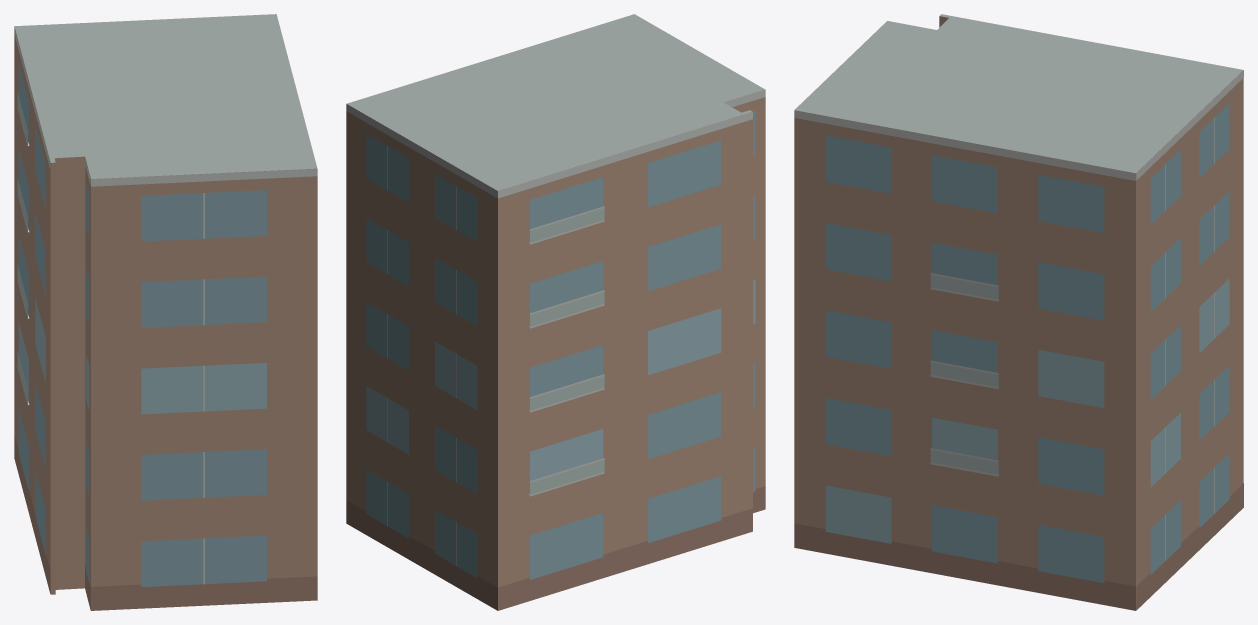
Rendered from survey-upis-32932690.glb.
3 renders of one model, left to right at view 1: azimuth 30°, elevation 25°; view 2: azimuth 150°, elevation 25°; view 3: azimuth 270°, elevation 25°, orthographic. The views are drawn at different scales.
Parts seen in each view (by area): view 1: survey-upis-32932690.tmp; view 2: survey-upis-32932690.tmp; view 3: survey-upis-32932690.tmp.
Boxes of the visible parts, x1,y1,x2,y2 form: survey-upis-32932690.tmp: (14, 14, 317, 610); survey-upis-32932690.tmp: (346, 14, 765, 610); survey-upis-32932690.tmp: (794, 14, 1243, 610).
Bounding box in the file's own units: 10.78 × 13.8 × 12.86.
